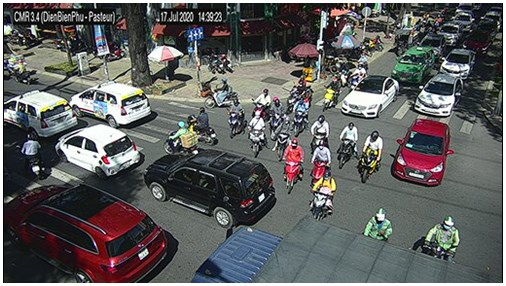xe_ba_gac: (394, 29, 419, 54)
xe_hoi: (5, 185, 168, 284), (146, 148, 276, 226), (55, 123, 140, 179), (391, 118, 452, 188), (341, 75, 399, 118), (414, 74, 464, 116), (439, 49, 476, 77), (464, 31, 491, 54), (437, 23, 462, 45)
xe_may: (425, 216, 459, 262), (310, 169, 335, 223), (22, 132, 47, 180), (283, 138, 304, 194), (359, 131, 382, 182), (163, 121, 197, 155), (187, 107, 216, 146), (363, 207, 392, 242), (205, 78, 237, 109), (337, 123, 358, 168), (248, 111, 266, 158), (275, 115, 292, 159), (311, 114, 329, 151), (228, 99, 245, 138), (252, 88, 271, 122), (287, 83, 309, 111), (269, 97, 283, 140), (293, 97, 308, 136), (324, 77, 339, 113), (12, 59, 31, 84), (349, 66, 366, 91), (292, 75, 309, 97), (337, 63, 348, 86), (358, 52, 368, 71)
xe_tai: (190, 214, 501, 283)
xe_taxi: (69, 81, 152, 127), (4, 90, 78, 137), (392, 46, 435, 83)
